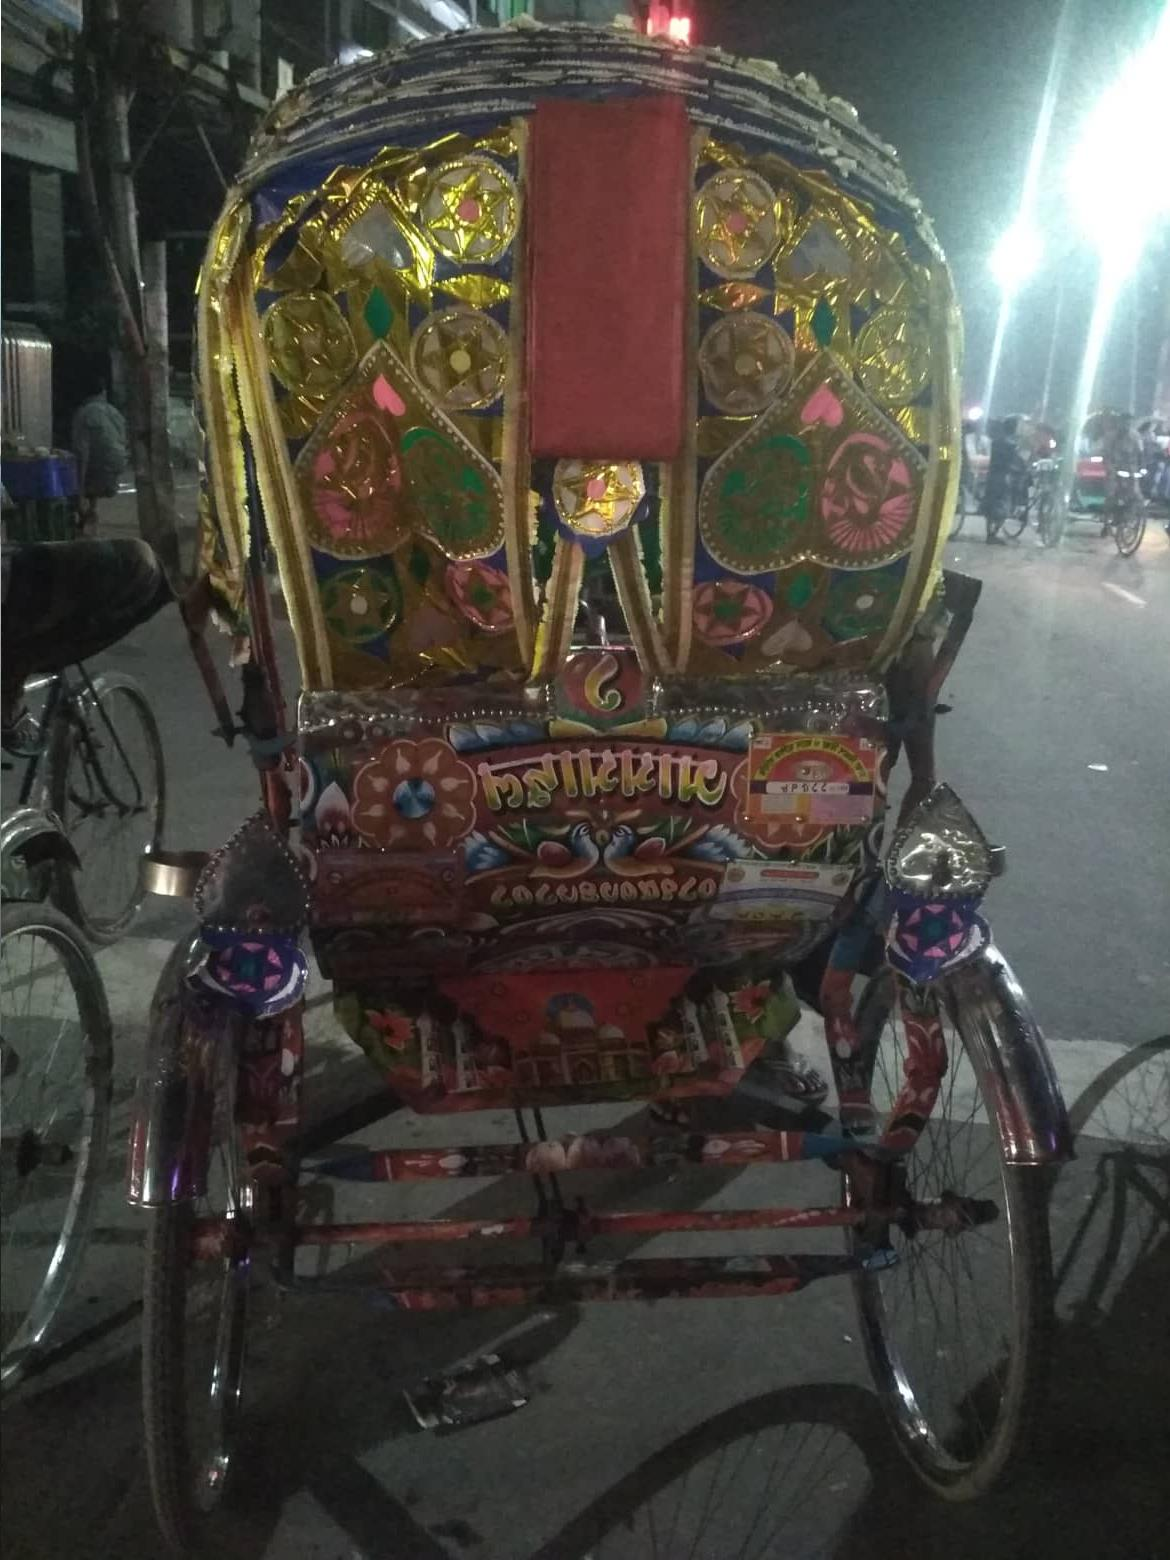Rickshaw: (143, 39, 1072, 1485)
